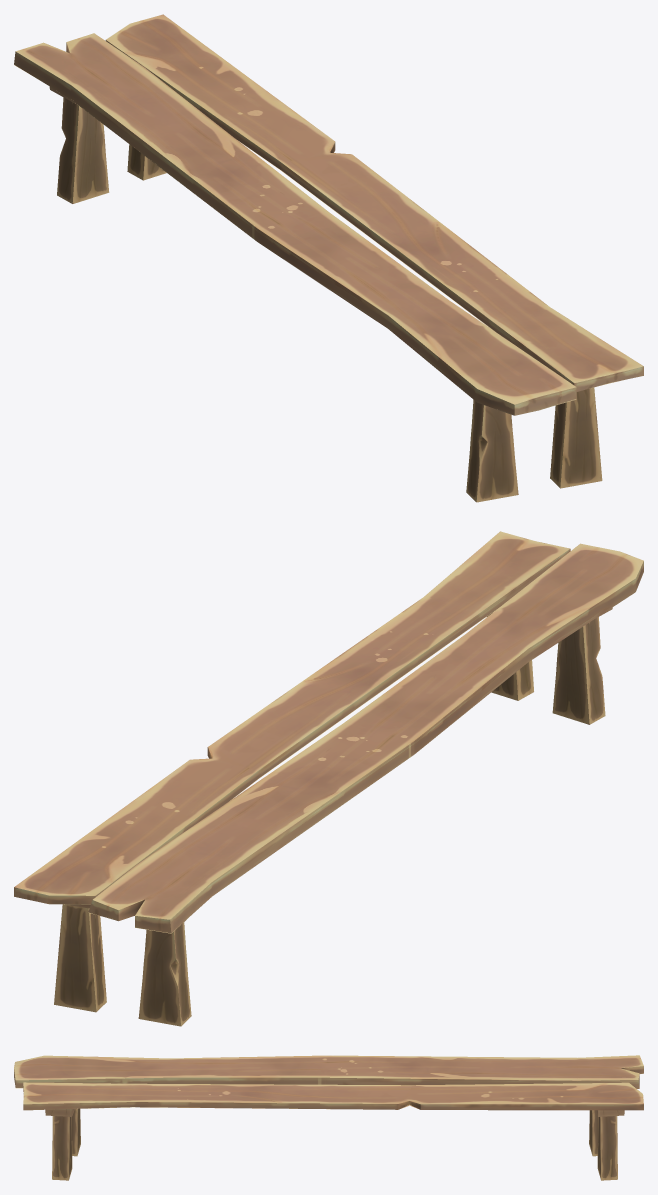
File: SM_Bank.fbx
The picture shows the model from 3 angles, top to bottom: view 1: azimuth 30°, elevation 25°; view 2: azimuth 150°, elevation 25°; view 3: azimuth 270°, elevation 25°; orthographic projection. The views are drawn at different scales.
Visible parts, largest first — view 1: SM_Bank_LOD0; view 2: SM_Bank_LOD0; view 3: SM_Bank_LOD0.
Part boxes in pixels (x1,y1,x2,y2): SM_Bank_LOD0: (14, 14, 643, 502); SM_Bank_LOD0: (14, 531, 643, 1026); SM_Bank_LOD0: (14, 1055, 643, 1180).
Bounding box in the file's own units: 50.38 × 279 × 40.57.
Materials: 1 (1 with a texture image).
